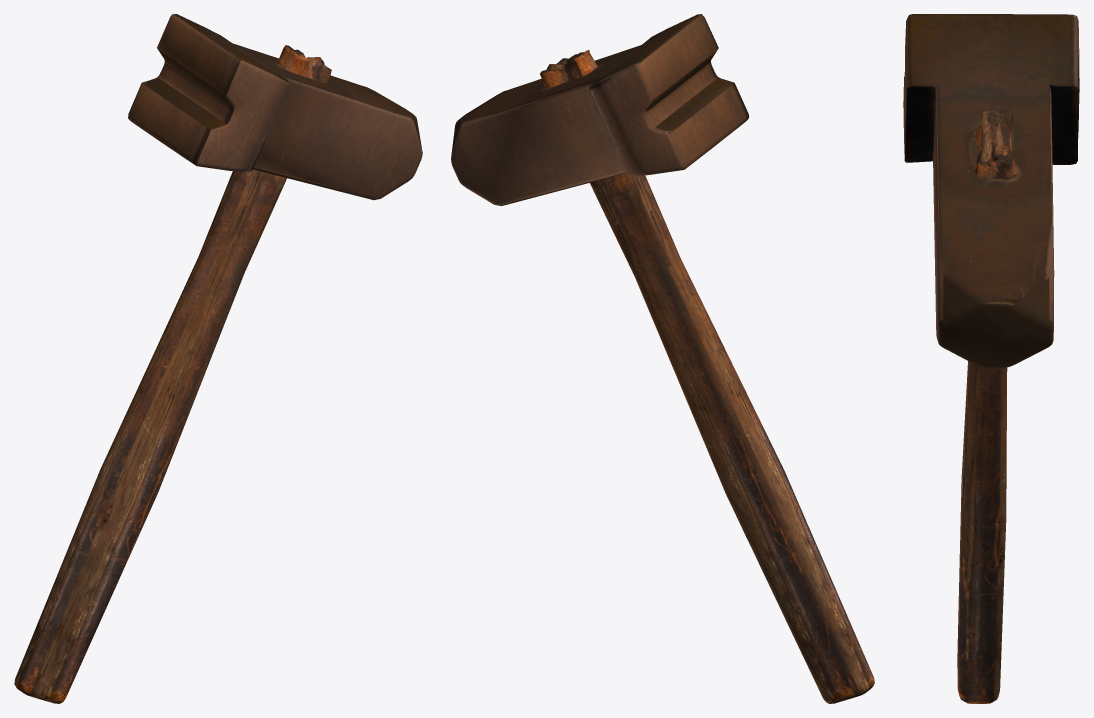
Rendered from Sledge.dae.
3 views of the same model, side by side, from view 1: azimuth 30°, elevation 25°; view 2: azimuth 150°, elevation 25°; view 3: azimuth 270°, elevation 25° (orthographic). The views are drawn at different scales.
Parts seen in each view (by area): view 1: Fuller_001; view 2: Fuller_001; view 3: Fuller_001.
Boxes of the visible parts, x1=… form: Fuller_001: x1=14, y1=14, x2=422, y2=703; Fuller_001: x1=451, y1=14, x2=874, y2=703; Fuller_001: x1=903, y1=14, x2=1079, y2=703.
Size of the model in its own units: 0.8642 by 0.2608 by 1.29.
Materials: 1 (1 with a texture image).
